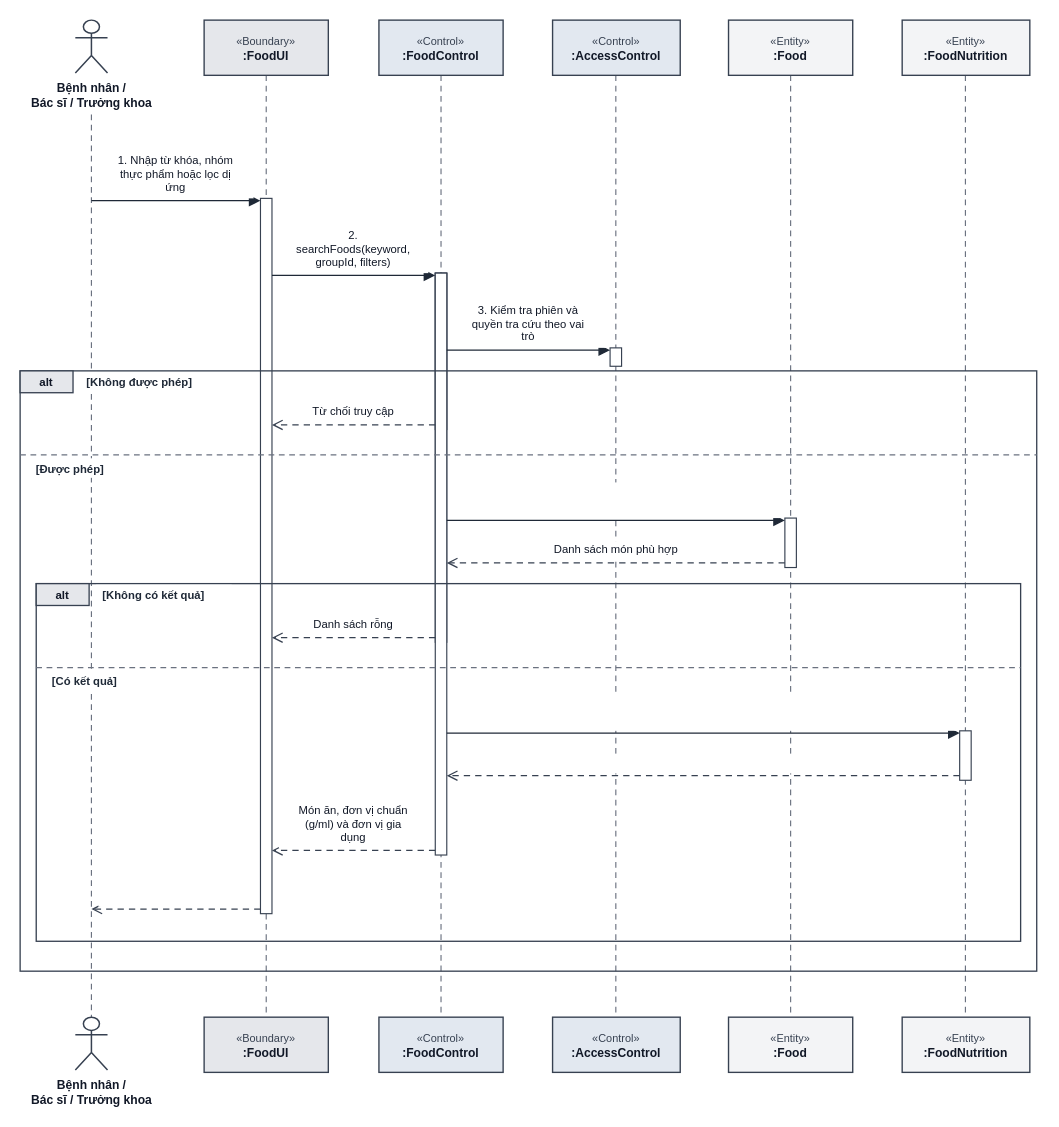
This 1059x1127 diagram has some shape labels left out. The centre of each missing label's shape, as x and y in pixels:
4. Tìm bản PUBLISHED theo tên, nhóm, trạng thái khả dụng & dị ứng: point 615,500
5. Lấy dinh dưỡng khẩu phần (kcal, P/C/L, xơ, đường, natri, chol, GI) & quy đổi: point 703,712
Dữ liệu dinh dưỡng, cách chế biến, ảnh & cảnh báo: point 702,763
Hiển thị danh sách và chi tiết món ăn: point 175,888
